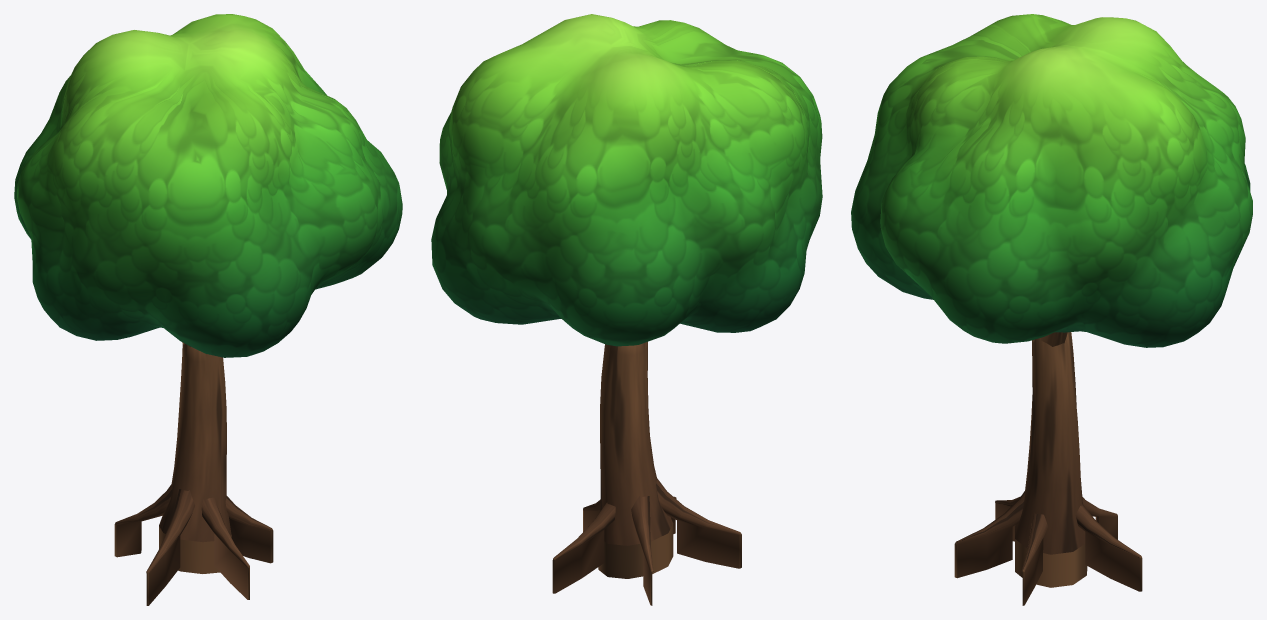
The model's file is Tree_Broadleaf_Round_01.fbx.
3 views of the same model, side by side, from view 1: azimuth 30°, elevation 25°; view 2: azimuth 150°, elevation 25°; view 3: azimuth 270°, elevation 25° (orthographic). The views are drawn at different scales.
Visible parts, largest first — view 1: Tree_Broadleaf_Round_01; view 2: Tree_Broadleaf_Round_01; view 3: Tree_Broadleaf_Round_01.
Part boxes in pixels (left/top/right/bottom): Tree_Broadleaf_Round_01: left=14, top=14, right=402, bottom=605; Tree_Broadleaf_Round_01: left=431, top=14, right=822, bottom=605; Tree_Broadleaf_Round_01: left=851, top=14, right=1252, bottom=605.
Size of the model in its own units: 5.39 by 8.14 by 5.5.
1 material, 1 textured.
